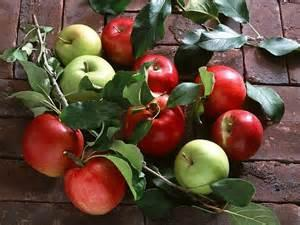apple: (23, 109, 86, 175), (71, 154, 129, 217), (54, 61, 122, 113), (172, 135, 229, 194), (211, 106, 273, 159), (40, 19, 105, 67), (188, 66, 251, 114)
